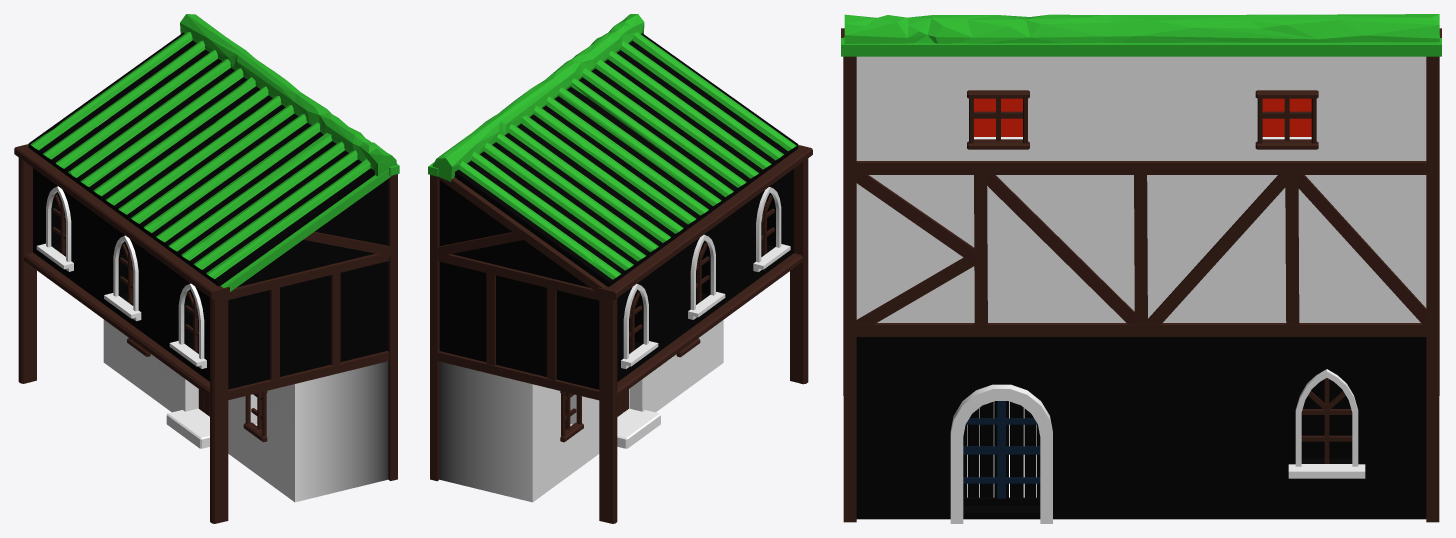
Rendered from civilian_house_41_c.FBX.
The picture shows the model from 3 angles, left to right: view 1: azimuth 30°, elevation 25°; view 2: azimuth 150°, elevation 25°; view 3: azimuth 270°, elevation 25°; orthographic projection. The views are drawn at different scales.
Visible parts, largest first — view 1: civilian_house_41_c; view 2: civilian_house_41_c; view 3: civilian_house_41_c.
Part boxes in pixels (box(x1,y1,x2,y2)): civilian_house_41_c: box(14, 14, 399, 523); civilian_house_41_c: box(428, 14, 812, 523); civilian_house_41_c: box(841, 14, 1441, 523).
Bounding box in the file's own units: 584 × 942 × 1031.
